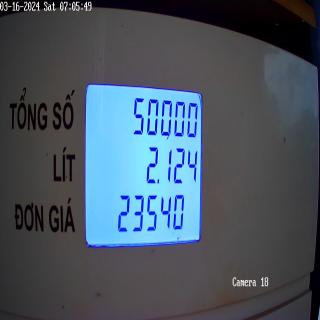screen: (82, 72, 207, 251)
